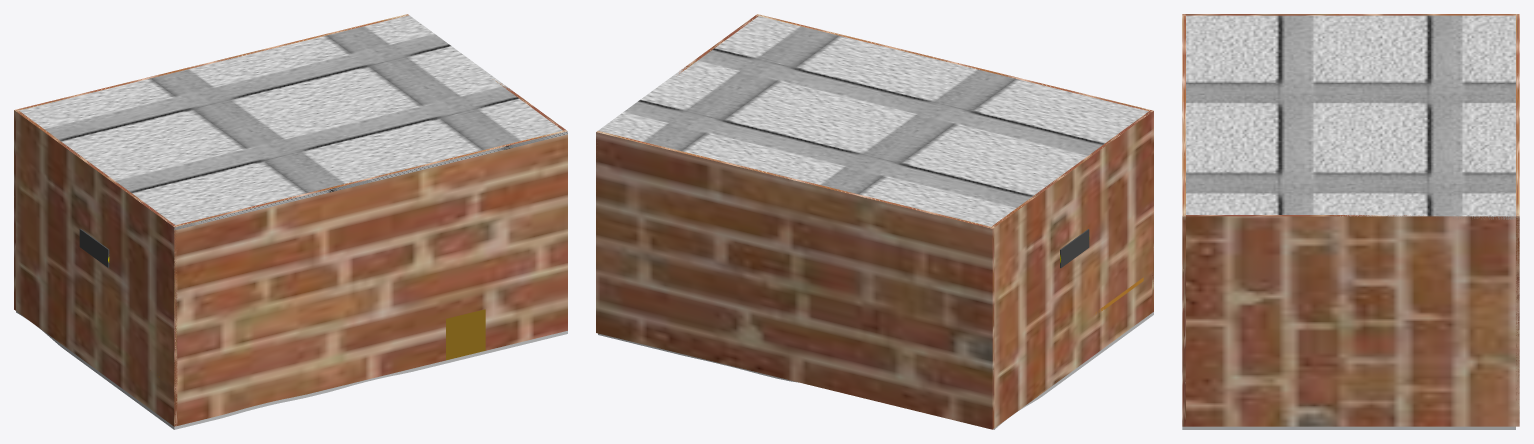
The model's file is Shooting_Gallery_Arena.fbx.
3 views of the same model, side by side, from view 1: azimuth 30°, elevation 25°; view 2: azimuth 150°, elevation 25°; view 3: azimuth 270°, elevation 25° (orthographic). The views are drawn at different scales.
Parts seen in each view (by area): view 1: Walls, Ceil, Floor, Table, Cylinder; view 2: Walls, Ceil, Floor, Cylinder; view 3: Walls, Ceil, Floor.
Boxes of the visible parts, x1=… form: Walls: x1=14, y1=14, x2=567, y2=426; Ceil: x1=19, y1=15, x2=567, y2=229; Floor: x1=16, y1=311, x2=567, y2=429; Table: x1=446, y1=309, x2=485, y2=360; Cylinder: x1=79, y1=229, x2=109, y2=267; Walls: x1=596, y1=14, x2=1153, y2=429; Ceil: x1=598, y1=16, x2=1148, y2=226; Floor: x1=598, y1=312, x2=1153, y2=429; Cylinder: x1=1060, y1=229, x2=1089, y2=268; Walls: x1=1182, y1=14, x2=1519, y2=426; Ceil: x1=1186, y1=15, x2=1515, y2=219; Floor: x1=1182, y1=426, x2=1515, y2=429.
Bounding box in the file's own units: 1986 × 1077 × 1395.
14 materials, 4 textured.
